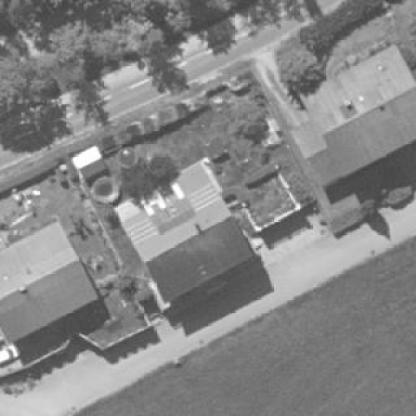solar-pv-panel: (187, 184, 219, 211), (125, 218, 157, 245)
